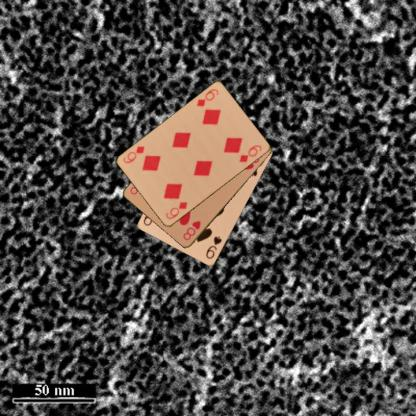6d: (194, 86, 220, 110), (163, 199, 188, 221)
8h: (180, 219, 203, 242)
9s: (203, 233, 223, 260)
